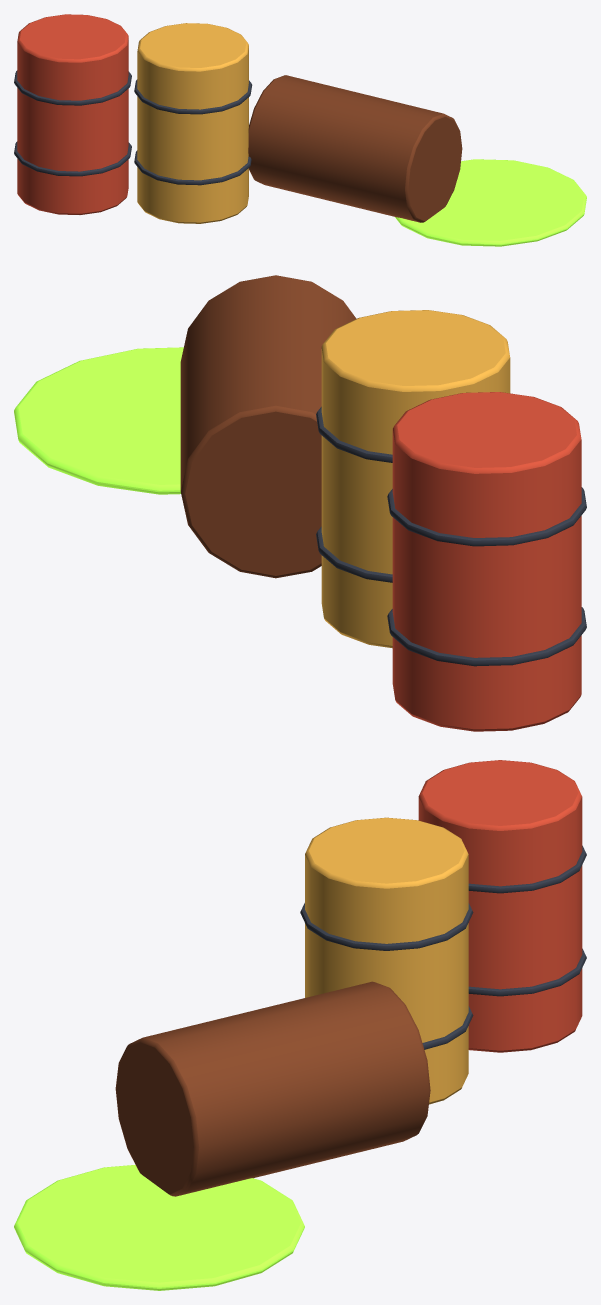
Rendered from schmutz_fass_2.fbx.
3 views of the same model, one above another, from view 1: azimuth 30°, elevation 25°; view 2: azimuth 150°, elevation 25°; view 3: azimuth 270°, elevation 25° (orthographic). The views are drawn at different scales.
Parts seen in each view (by area): view 1: schmutz_fass_2_Koerper; view 2: schmutz_fass_2_Koerper; view 3: schmutz_fass_2_Koerper.
Part boxes in pixels (bbox=[...]): schmutz_fass_2_Koerper: bbox=[14, 14, 586, 246]; schmutz_fass_2_Koerper: bbox=[14, 275, 586, 731]; schmutz_fass_2_Koerper: bbox=[14, 760, 586, 1290].
Bounding box in the file's own units: 1.61 × 0.55 × 1.26.
